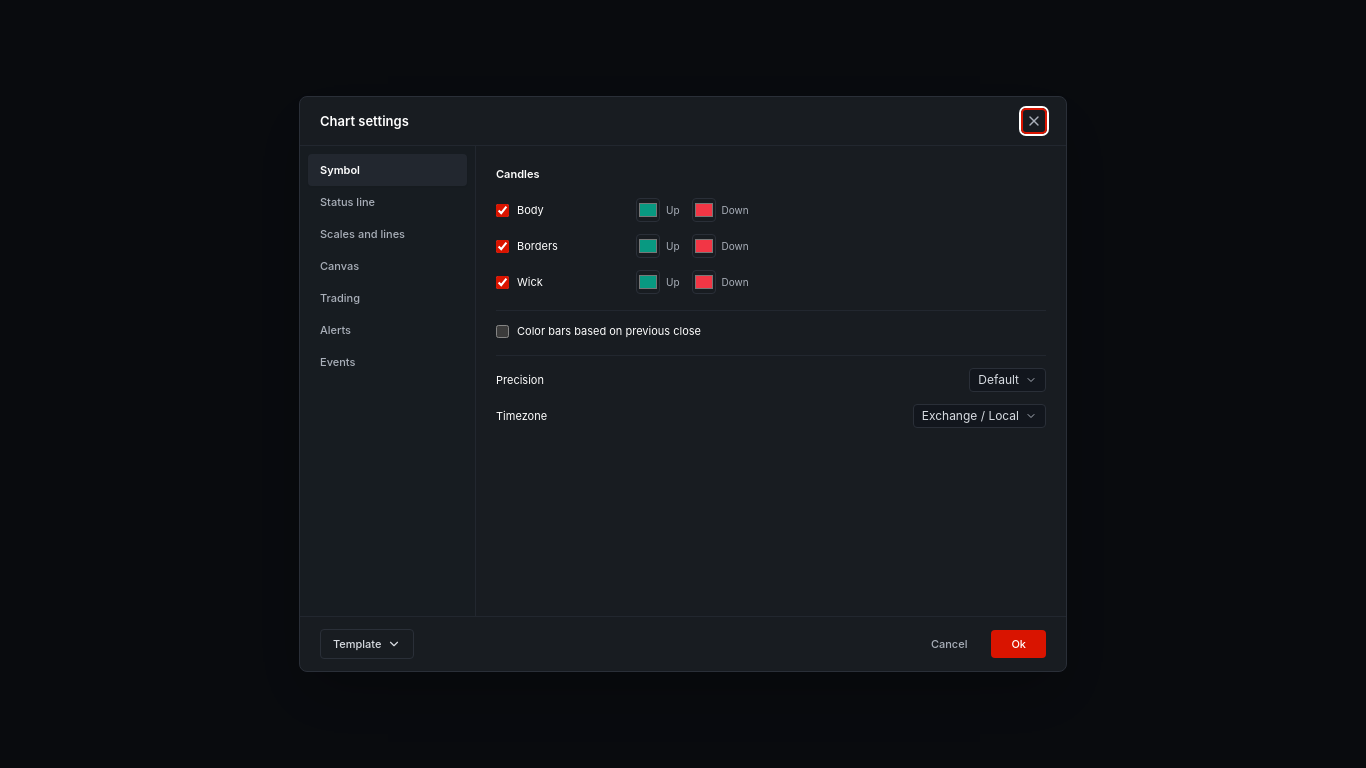
it: ChartSettingsDialog › switches tabs and displays tab content
The width and height of the screenshot is (1366, 768).
// Click Canvas tab
Click the tab "Canvas" at (388, 266), box [308,250,467,282]
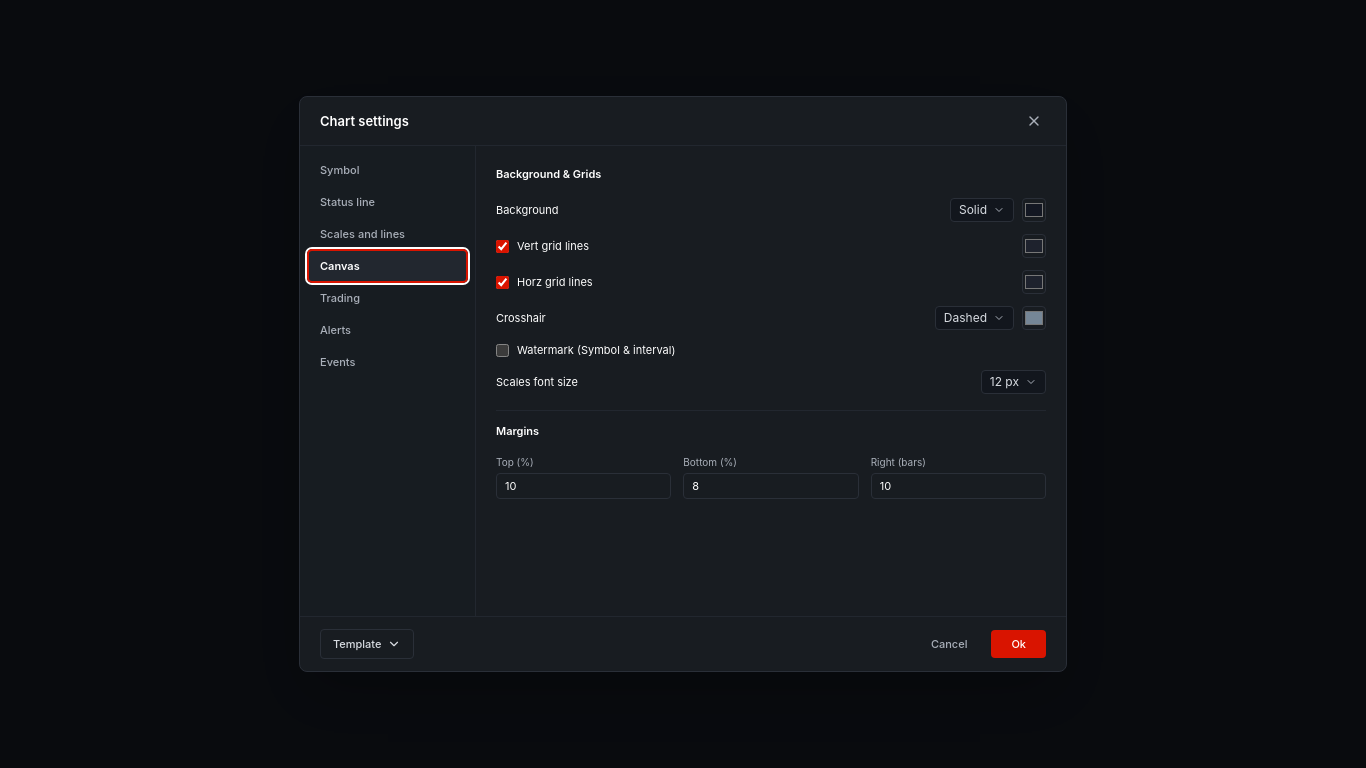
Result: the text "Background & Grids" is shown at [496,167,601,181]
Result: the text "Vert grid lines" is shown at [517,238,589,254]
Result: the text "Horz grid lines" is shown at [517,274,593,290]
// Click Trading tab
Click the tab "Trading" at (388, 298), box [308,282,467,314]
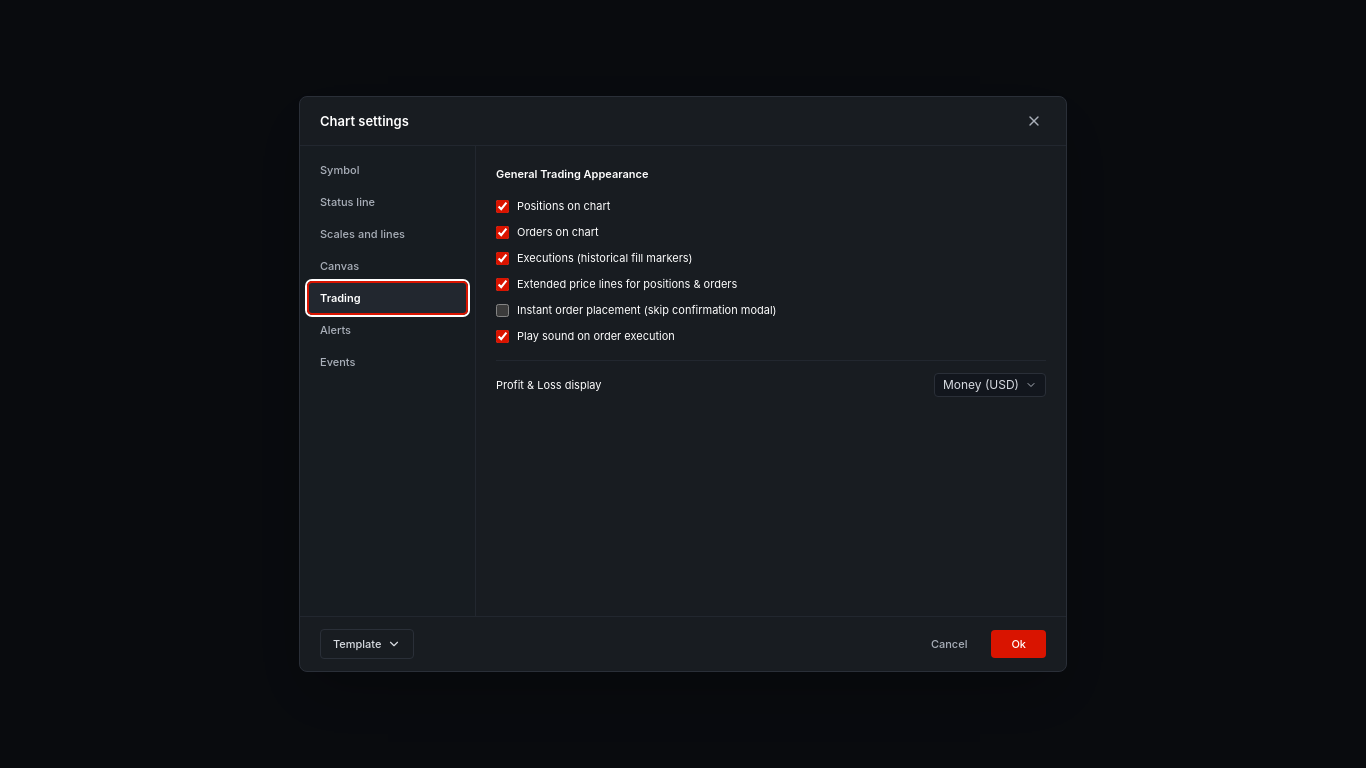
Result: the text "General Trading Appearance" is shown at [496,167,648,181]
Result: the text "Positions on chart" is shown at [517,198,610,214]
// Click Alerts tab
Click the tab "Alerts" at (388, 330), box [308,314,467,346]
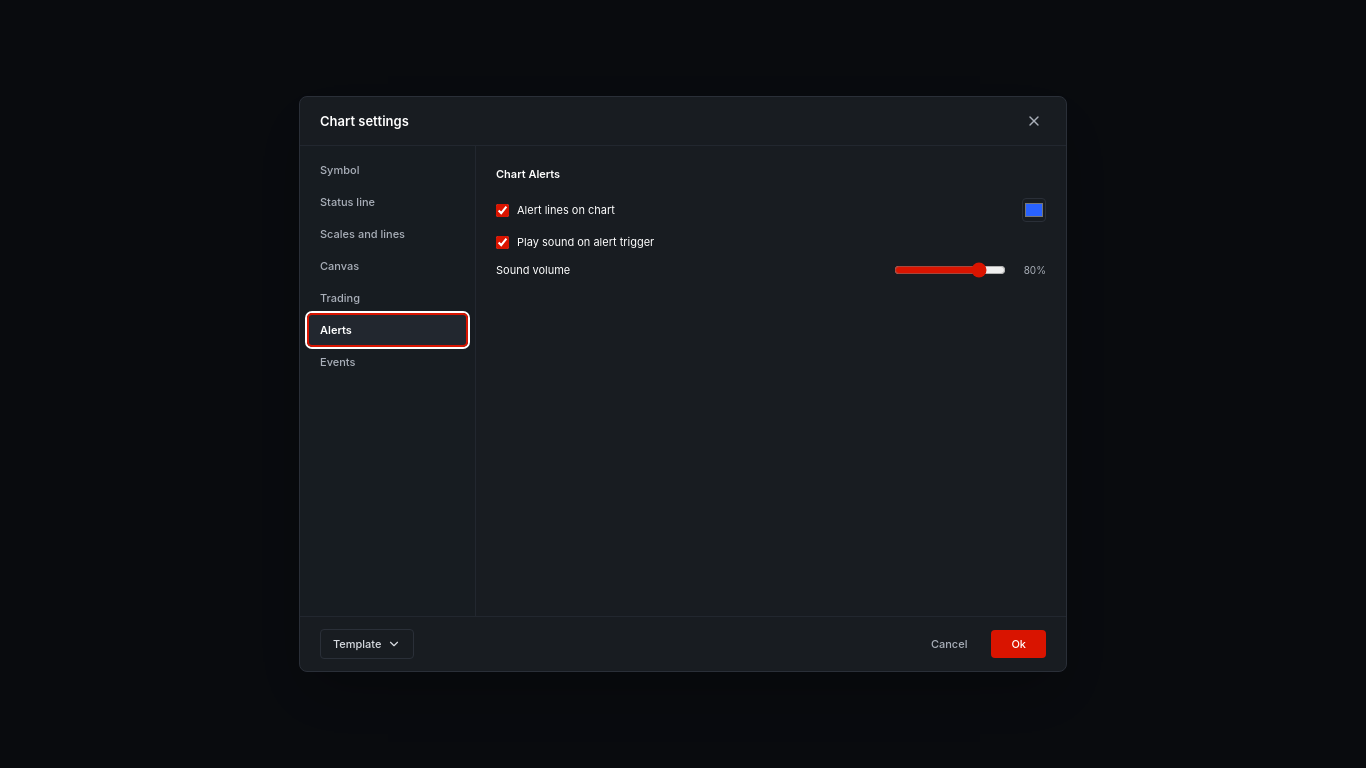
Result: the text "Chart Alerts" is shown at [496,167,560,181]
Result: the text "Alert lines on chart" is shown at [517,202,615,218]
// Click Events tab
Click the tab "Events" at (388, 362), box [308,346,467,378]
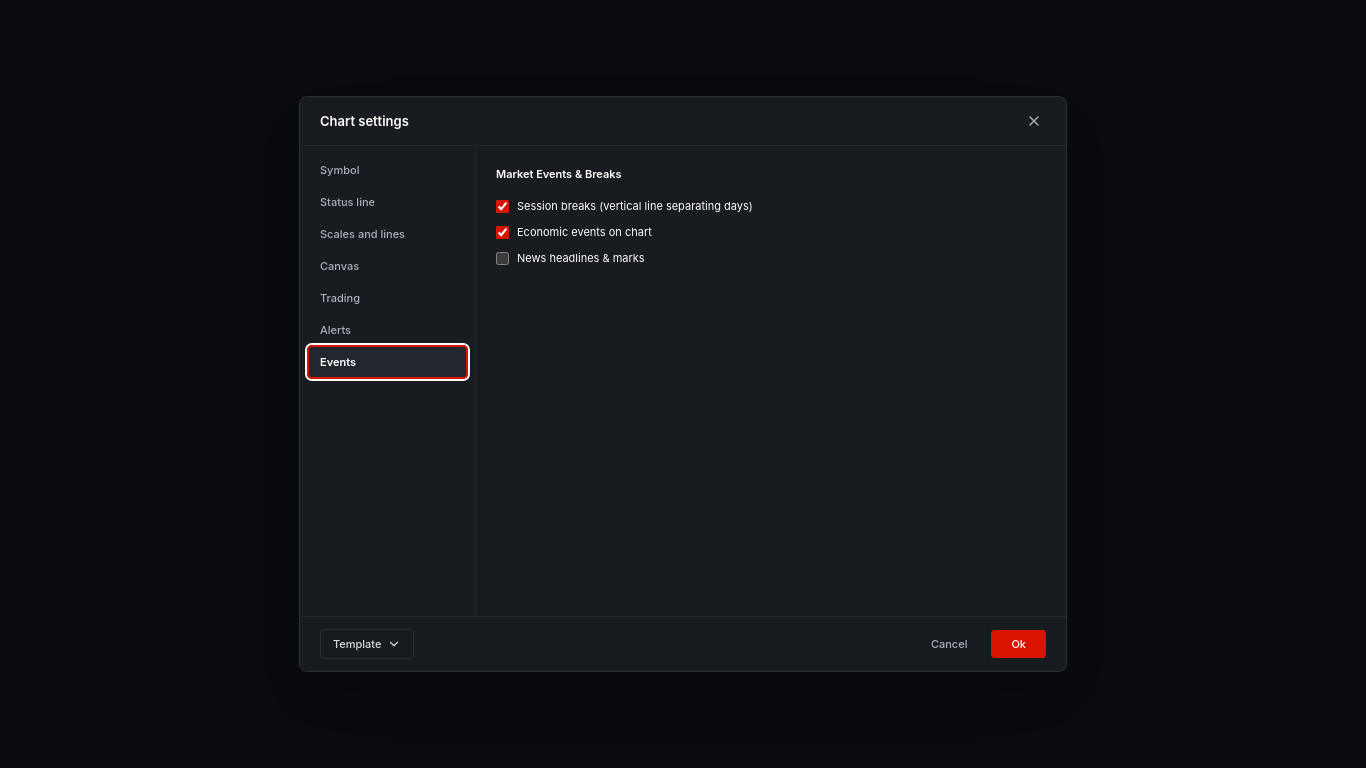
Result: the text "Market Events & Breaks" is shown at [496,167,622,181]
Result: the text "Economic events on chart" is shown at [517,224,652,240]
